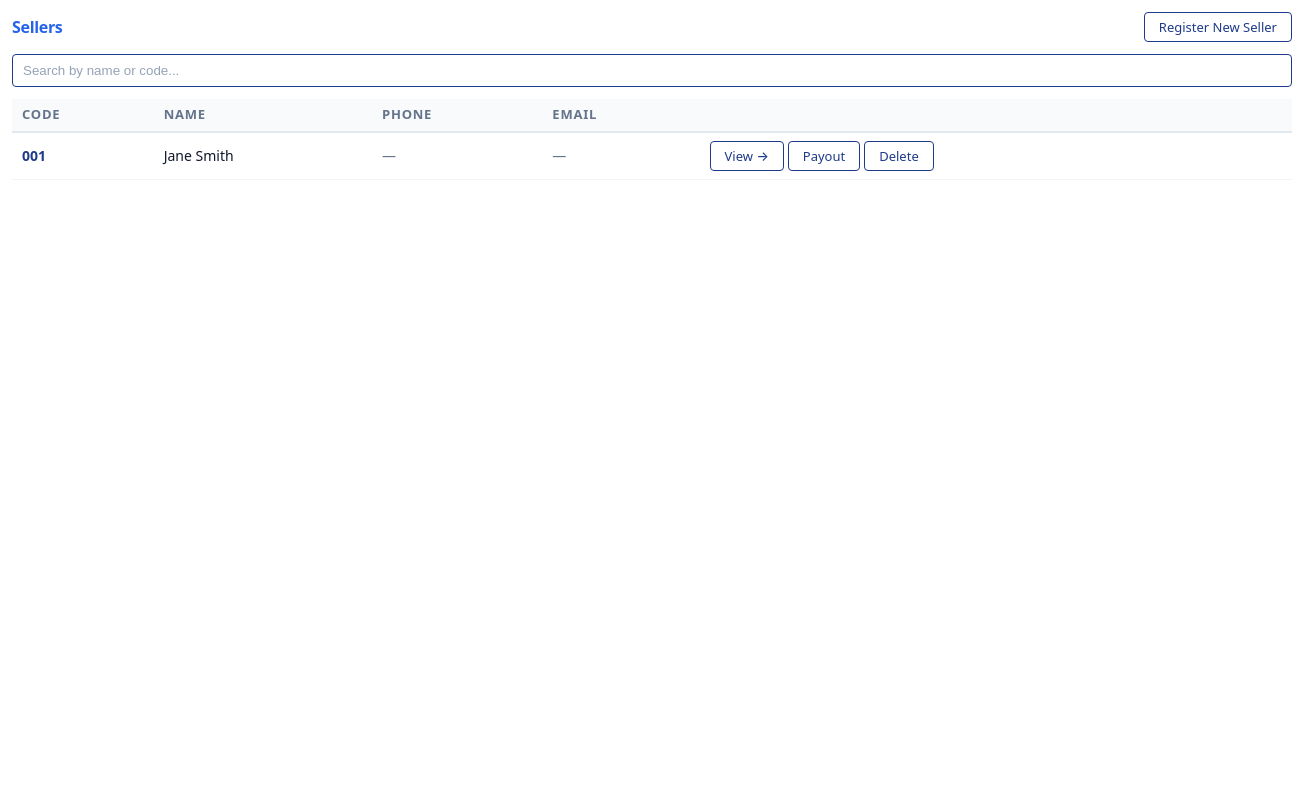
Scenario: SellerListPage › hides payout panel when Payout is clicked a second time
Expected: the text "Jane Smith" is shown, 154,132 -> 372,179
Click the button "Payout" at [824, 156], box 788,140 -> 860,170
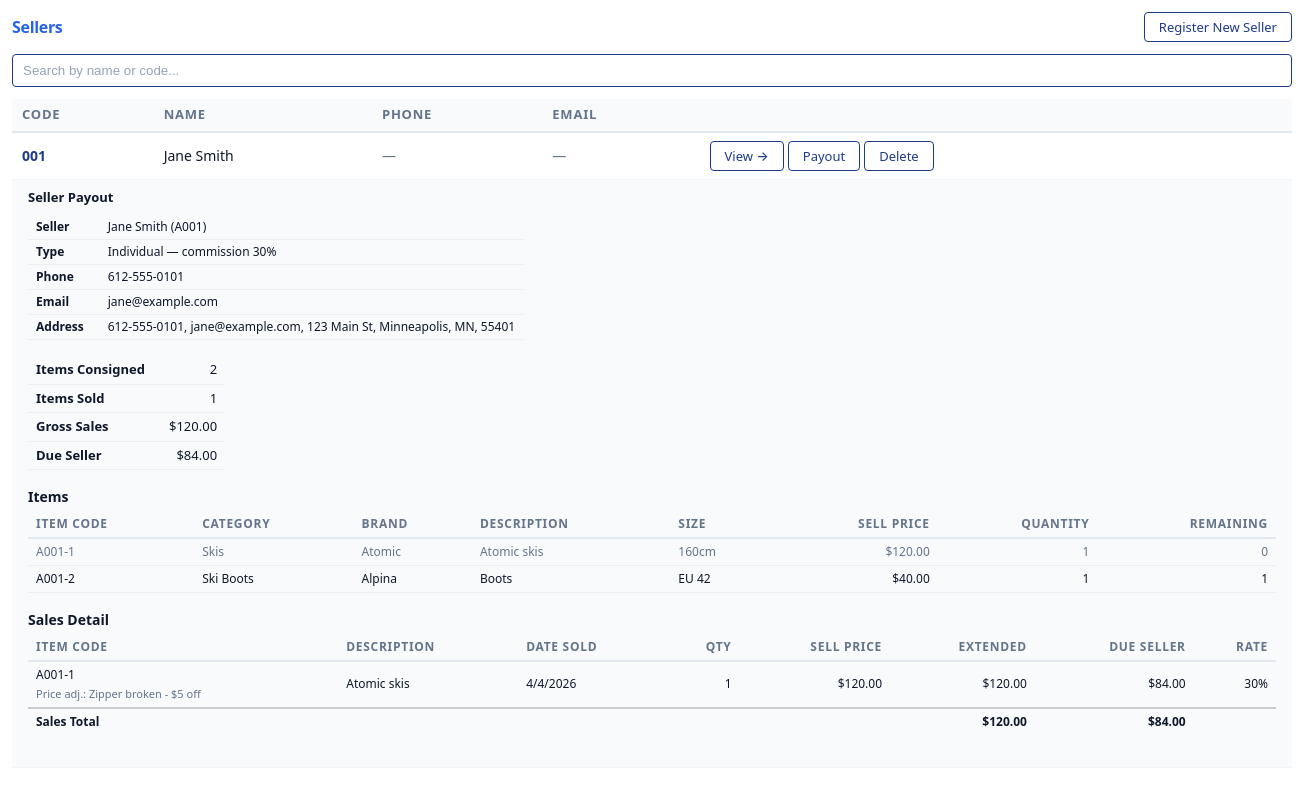
Expected: the text "$84.00" below "Gross Sales" is shown, 176,446 -> 217,464
Click the button "Payout" at [824, 156], box 788,140 -> 860,170
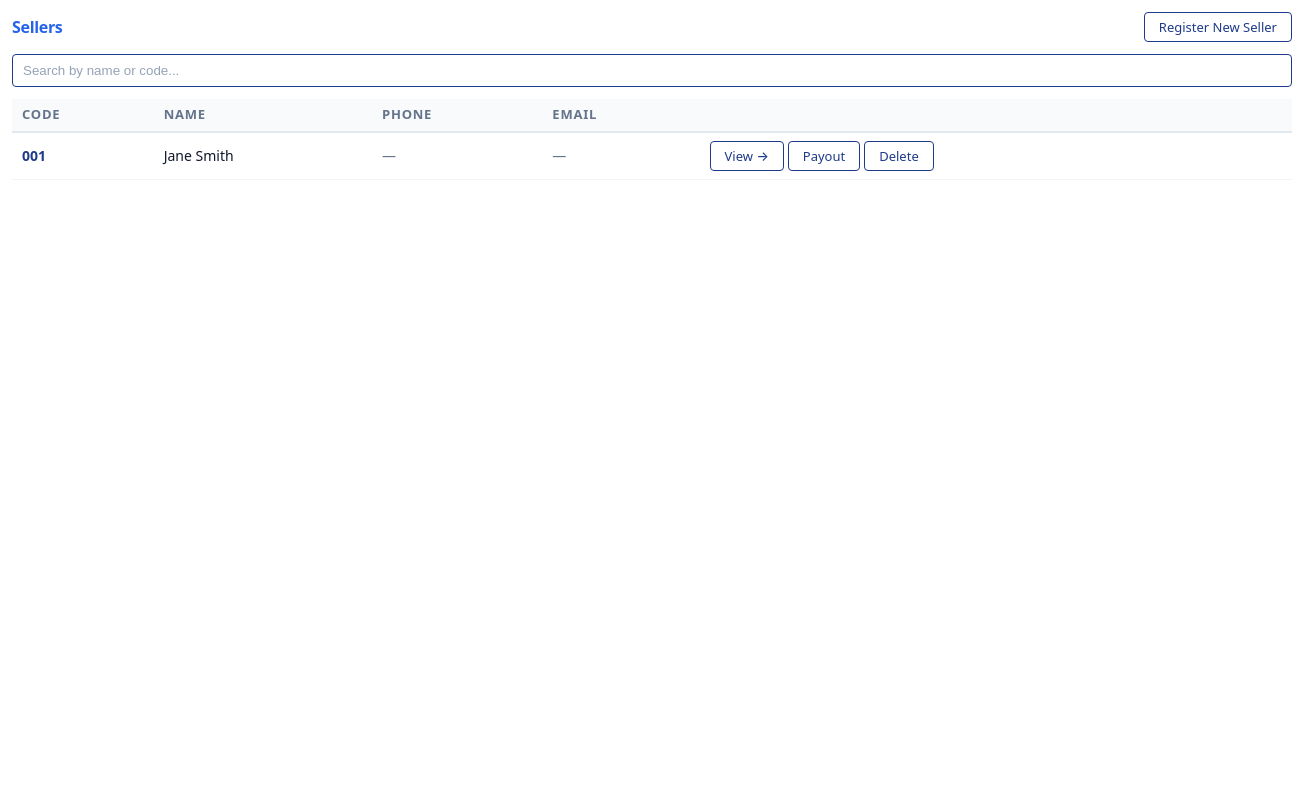
Expected: the text "$84.00" is gone
